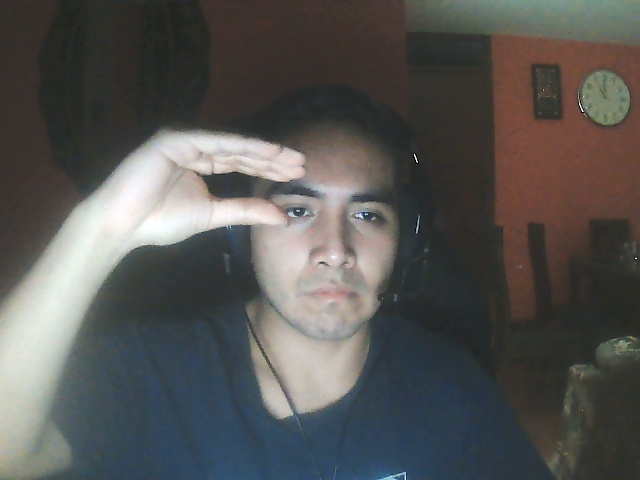no: (91, 119, 309, 251)
